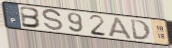2: (88, 14, 107, 38)
9: (68, 12, 85, 34)
A: (108, 16, 134, 40)
B: (20, 6, 44, 30)
D: (129, 18, 153, 41)
S: (42, 8, 65, 32)
